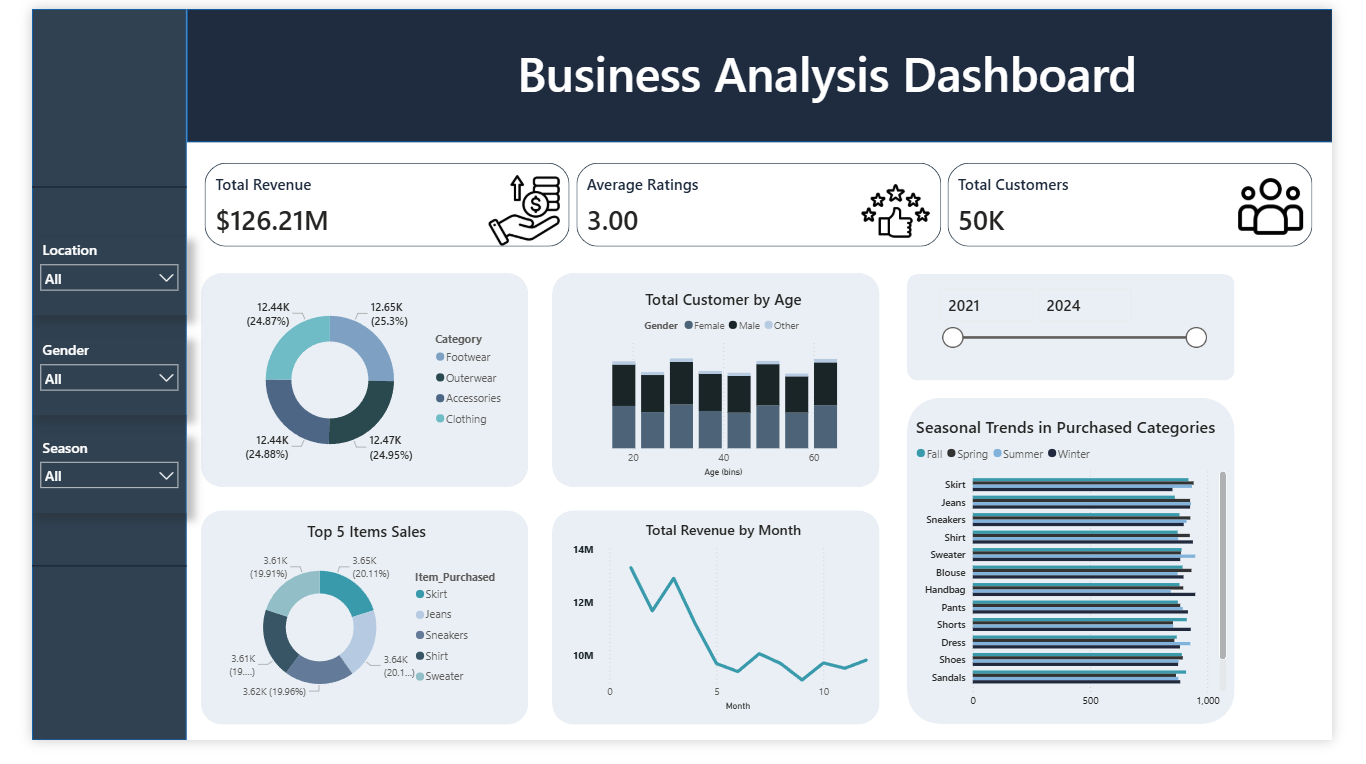

The dashboard page shown, as its layout file describes it:
{"tool":"powerbi","page":{"name":"Page 1","canvas":[1600,900],"ordinal":0},"visuals":[{"type":"shape","box":[208.2,324.6,403.3,263.9],"z":0},{"type":"shape","box":[208.2,616.4,403.3,263.9],"z":1000},{"type":"shape","box":[639.3,324.6,403.3,263.9],"z":2000},{"type":"shape","box":[639.3,616.4,403.3,263.9],"z":3000},{"type":"shape","box":[1076.7,478.3,403.3,401.7],"z":4000},{"type":"shape","box":[1077,326.2,403.3,131.1],"z":5000},{"type":"shape","box":[190.2,0,1409.8,163.9],"z":6000},{"type":"shape","box":[0,0,190.2,900],"z":7000},{"type":"cardVisual","fields":{"Data":["test_db customer_data.Total Revenue","test_db customer_data.Average Ratings","test_db customer_data.Total Customers"]},"box":[208,186,1374,116],"z":8000},{"type":"textbox","box":[448,34,918,130],"z":9000},{"type":"donutChart","fields":{"Y":["CountNonNull(test_db customer_data.Total_Spent)"],"Category":["test_db customer_data.Category"]},"box":[232.8,334.4,359,245.9],"z":10000},{"type":"donutChart","title":"Top 5 Items Sales","fields":{"Category":["test_db customer_data.Item_Purchased"],"Y":["CountNonNull(test_db customer_data.Customer_ID)"]},"box":[232.8,629.5,359,239.3],"z":11000},{"type":"slicer","fields":{"Values":["test_db customer_data.Year"]},"box":[1104.9,334.4,349.2,109.8],"z":12000},{"type":"columnChart","title":"Total Customer by Age ","fields":{"Y":["CountNonNull(test_db customer_data.Customer_ID)"],"Series":["test_db customer_data.Gender"],"Category":["test_db customer_data.Age (bins)"]},"box":[660.7,344.3,382,236.1],"z":13000},{"type":"clusteredBarChart","title":"Seasonal Trends in Purchased Categories","fields":{"Y":["CountNonNull(test_db customer_data.Category)"],"Category":["test_db customer_data.Item_Purchased"],"Series":["test_db customer_data.Season"]},"box":[1083.6,500,391.8,368.9],"z":14000},{"type":"lineChart","title":"Total Revenue by Month","fields":{"Category":["test_db customer_data.Month"],"Y":["test_db customer_data.Total Revenue"]},"box":[660.7,629.5,382,239.3],"z":15000},{"type":"slicer","fields":{"Values":["test_db customer_data.Location"]},"box":[0,280.3,190.2,96.7],"z":16000},{"type":"slicer","fields":{"Values":["test_db customer_data.Gender"]},"box":[0,403.3,190.2,96.7],"z":17000},{"type":"slicer","fields":{"Values":["test_db customer_data.Season"]},"box":[0,523,190.2,96.7],"z":18000},{"type":"shape","box":[0,195.1,190.2,47.5],"z":19000},{"type":"shape","box":[0,662.3,190.2,47.5],"z":20000}]}

Visuals, with their boxes in screenshot pixels (x1, y1, x2, y2), scaled from the page's 1600x900 canvas onto the 1366x764 screenshot:
shape: 178 276 522 500
shape: 178 523 522 747
shape: 546 276 890 500
shape: 546 523 890 747
shape: 919 406 1264 747
shape: 919 277 1264 388
shape: 162 0 1365 139
shape: 0 0 162 763
cardVisual - test_db customer_data.Total Revenue x test_db customer_data.Average Ratings: 178 158 1351 256
textbox: 382 29 1166 139
donutChart - CountNonNull(test_db customer_data.Total_Spent) x test_db customer_data.Category: 199 284 505 493
"Top 5 Items Sales" donutChart: 199 534 505 738
slicer - test_db customer_data.Year: 943 284 1241 377
"Total Customer by Age " columnChart: 564 292 890 493
"Seasonal Trends in Purchased Categories" clusteredBarChart: 925 424 1260 738
"Total Revenue by Month" lineChart: 564 534 890 738
slicer - test_db customer_data.Location: 0 238 162 320
slicer - test_db customer_data.Gender: 0 342 162 424
slicer - test_db customer_data.Season: 0 444 162 526
shape: 0 166 162 206
shape: 0 562 162 603
